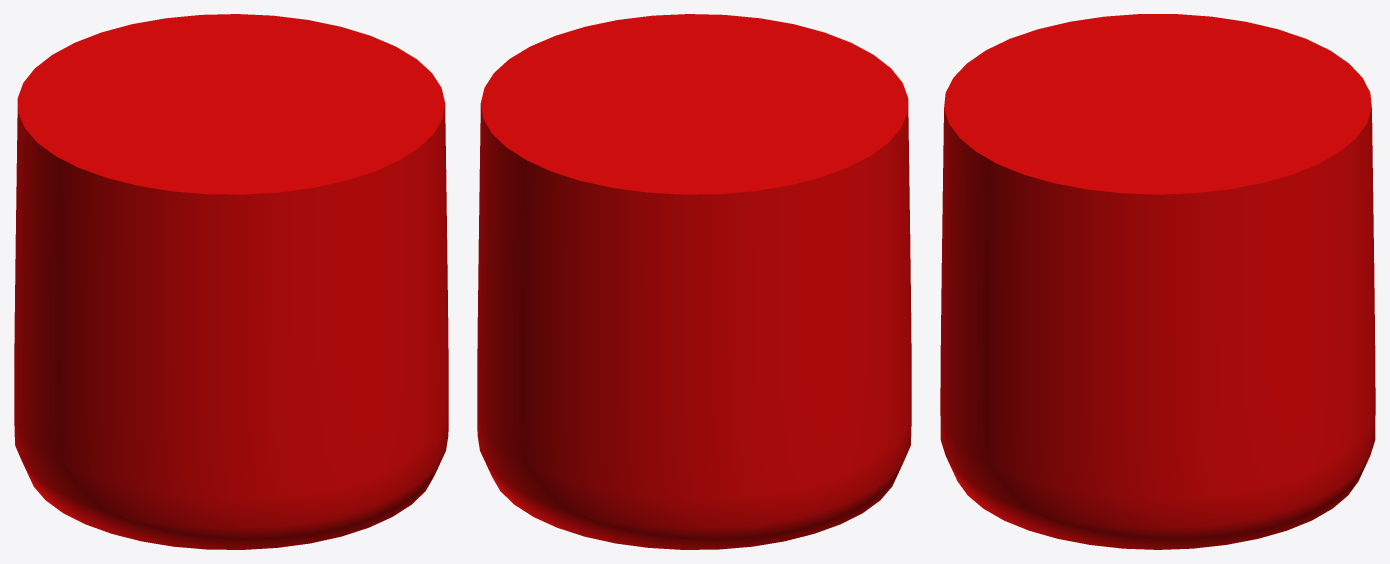
File: Liquid.fbx
3 views of the same model, side by side, from view 1: azimuth 30°, elevation 25°; view 2: azimuth 150°, elevation 25°; view 3: azimuth 270°, elevation 25° (orthographic).
Parts seen in each view (by area): view 1: pCube2; view 2: pCube2; view 3: pCube2.
Part boxes in pixels (bbox=[...]): pCube2: bbox=[14, 14, 448, 549]; pCube2: bbox=[477, 14, 911, 549]; pCube2: bbox=[940, 14, 1375, 549].
Size of the model in its own units: 0.6497 by 0.6246 by 0.6503.
